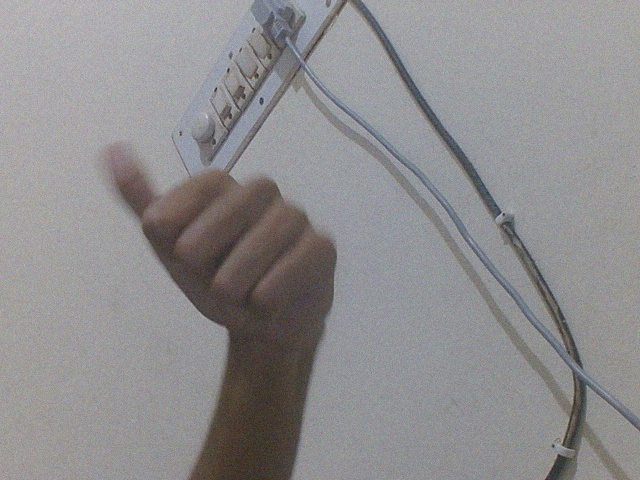hand: (98, 138, 344, 357)
